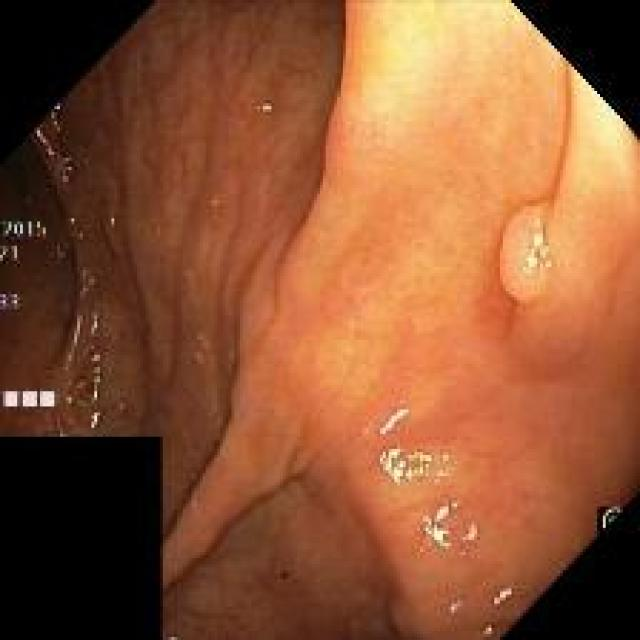Polyps: (500, 203, 551, 302)
